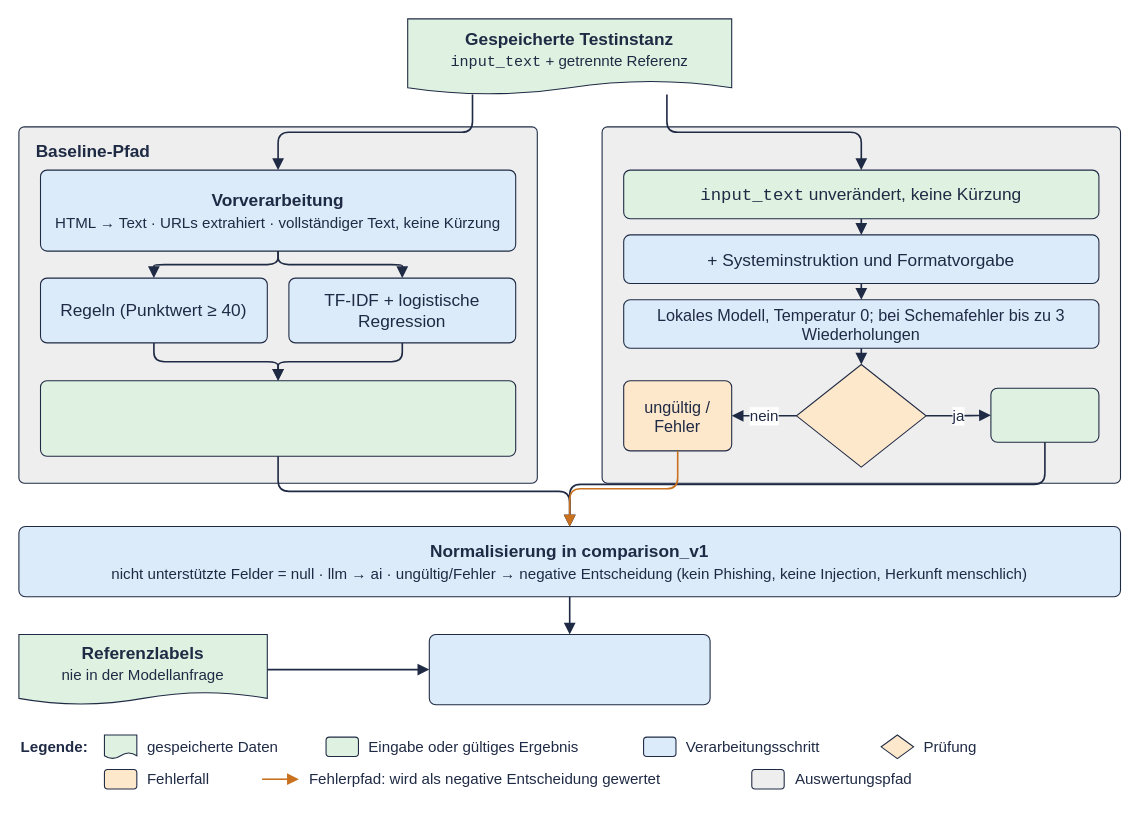
Image size: 1139x814. Some labels were removed from this diagram. Each missing label, with the box of its shape:
Entscheidung immer vorhanden programmatisch, kein Formatfehler möglich: (39, 380, 516, 456)
gültig: (990, 387, 1099, 442)
JSON gültig?: (795, 363, 926, 467)
LLM-Pfad: (601, 126, 1120, 483)
Metriken Validitätsrate separat ausgewiesen: (428, 633, 710, 705)
